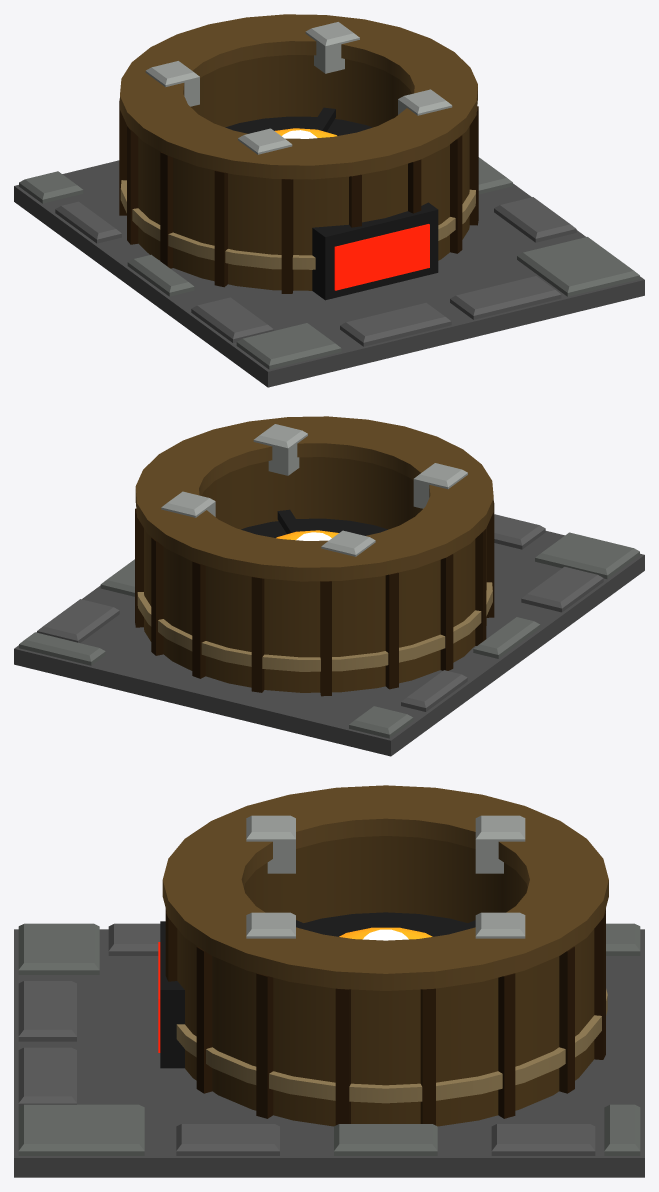
The model's file is newshd-169.glb.
3 views of the same model, one above another, from view 1: azimuth 30°, elevation 25°; view 2: azimuth 150°, elevation 25°; view 3: azimuth 270°, elevation 25° (orthographic). The views are drawn at different scales.
Visible parts, largest first — view 1: newshd-169; view 2: newshd-169; view 3: newshd-169.
Boxes of the visible parts, box(x1,y1,x2,y2) form: newshd-169: box(14, 14, 644, 387); newshd-169: box(14, 416, 644, 756); newshd-169: box(14, 785, 644, 1177).
Size of the model in its own units: 2 by 0.76 by 2.33.
